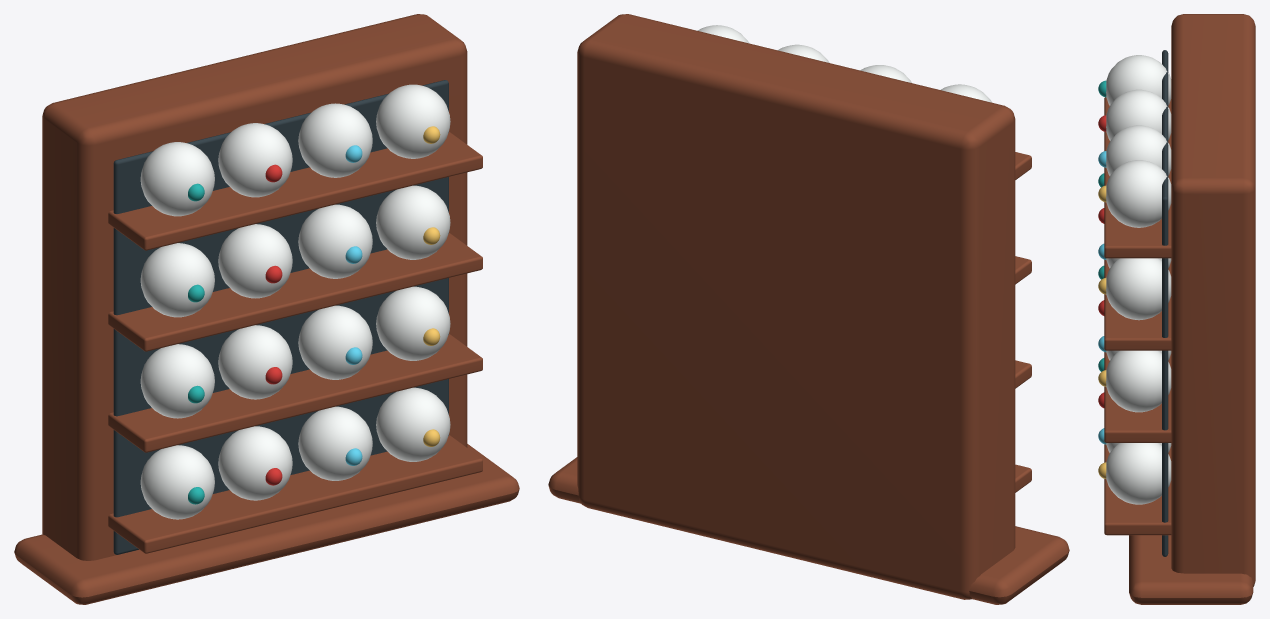
The model's file is virtual-ball-rack.glb.
3 renders of one model, left to right at view 1: azimuth 30°, elevation 25°; view 2: azimuth 150°, elevation 25°; view 3: azimuth 270°, elevation 25°, orthographic. The views are drawn at different scales.
Parts seen in each view (by area): view 1: Wooden cabinet, Dark backing, Foot, Shelf.001, Shelf.003, Shelf.002, Shelf, Logo golf ball.013, Logo golf ball.015, Logo golf ball.012, Logo golf ball.014, Logo golf ball.001 (+11 smaller); view 2: Wooden cabinet, Foot; view 3: Wooden cabinet, Foot, Logo golf ball.015, Logo golf ball.007, Logo golf ball.011, Logo golf ball.003, Dark backing, Shelf.003, Shelf, Shelf.002, Shelf.001, Logo golf ball.013 (+2 smaller).
Boxes of the visible parts, bbox=[...] form: Wooden cabinet: bbox=[42, 14, 467, 560]; Dark backing: bbox=[113, 80, 448, 554]; Foot: bbox=[14, 444, 519, 604]; Shelf.001: bbox=[108, 334, 482, 452]; Shelf.003: bbox=[108, 131, 482, 250]; Shelf.002: bbox=[108, 233, 482, 351]; Shelf: bbox=[108, 435, 482, 553]; Logo golf ball.013: bbox=[218, 123, 292, 197]; Logo golf ball.015: bbox=[376, 84, 450, 158]; Logo golf ball.012: bbox=[140, 142, 214, 216]; Logo golf ball.014: bbox=[298, 103, 372, 177]; Logo golf ball.001: bbox=[218, 426, 292, 500]; Wooden cabinet: bbox=[577, 14, 1015, 599]; Foot: bbox=[548, 457, 1069, 604]; Wooden cabinet: bbox=[1171, 14, 1255, 586]; Foot: bbox=[1129, 535, 1253, 604]; Logo golf ball.015: bbox=[1106, 160, 1171, 227]; Logo golf ball.007: bbox=[1106, 350, 1171, 412]; Logo golf ball.011: bbox=[1106, 258, 1171, 320]; Logo golf ball.003: bbox=[1106, 443, 1171, 504]; Dark backing: bbox=[1162, 50, 1168, 556]; Shelf.003: bbox=[1104, 97, 1171, 258]; Shelf: bbox=[1104, 444, 1171, 535]; Shelf.002: bbox=[1104, 259, 1171, 350]; Shelf.001: bbox=[1104, 352, 1171, 442]; Logo golf ball.013: bbox=[1106, 89, 1171, 140].
Size of the model in its own units: 1.9 by 1.84 by 0.634.
